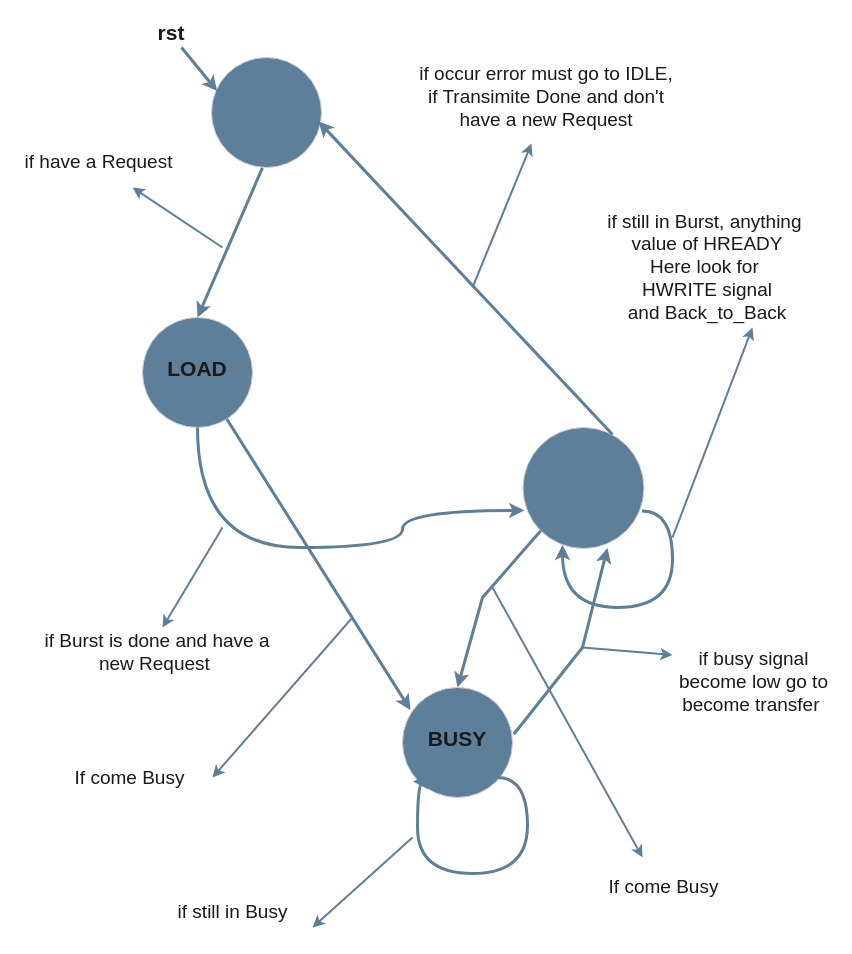
Some shapes in this 852 by 954 pixel diagram are drawn without their labels. Each missing label, with the box of its shape:
IDLE: (210, 56, 322, 168)
TRANSFER: (522, 426, 644, 548)
